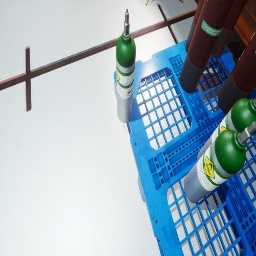0: (184, 121, 256, 203), (197, 98, 256, 162), (116, 8, 136, 123)
NitrogenTank ,: (179, 0, 235, 93), (218, 31, 256, 114), (212, 0, 248, 56), (186, 0, 204, 53)
